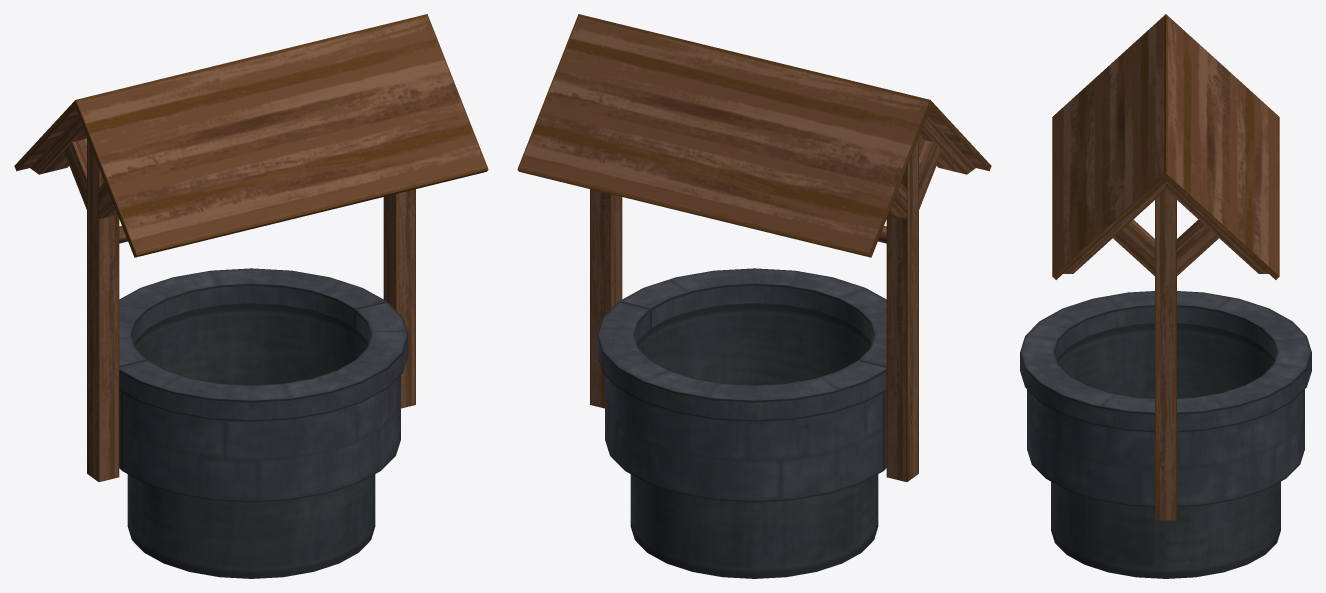
Rendered from Well.fbx.
3 renders of one model, left to right at view 1: azimuth 30°, elevation 25°; view 2: azimuth 150°, elevation 25°; view 3: azimuth 270°, elevation 25°, orthographic. The views are drawn at different scales.
Parts seen in each view (by area): view 1: Well; view 2: Well; view 3: Well.
Boxes of the visible parts, x1,y1,x2,y2 form: Well: (14,14,488,578); Well: (517,14,991,578); Well: (1020,14,1311,578).
Size of the model in its own units: 3.44 by 4.39 by 2.66.
